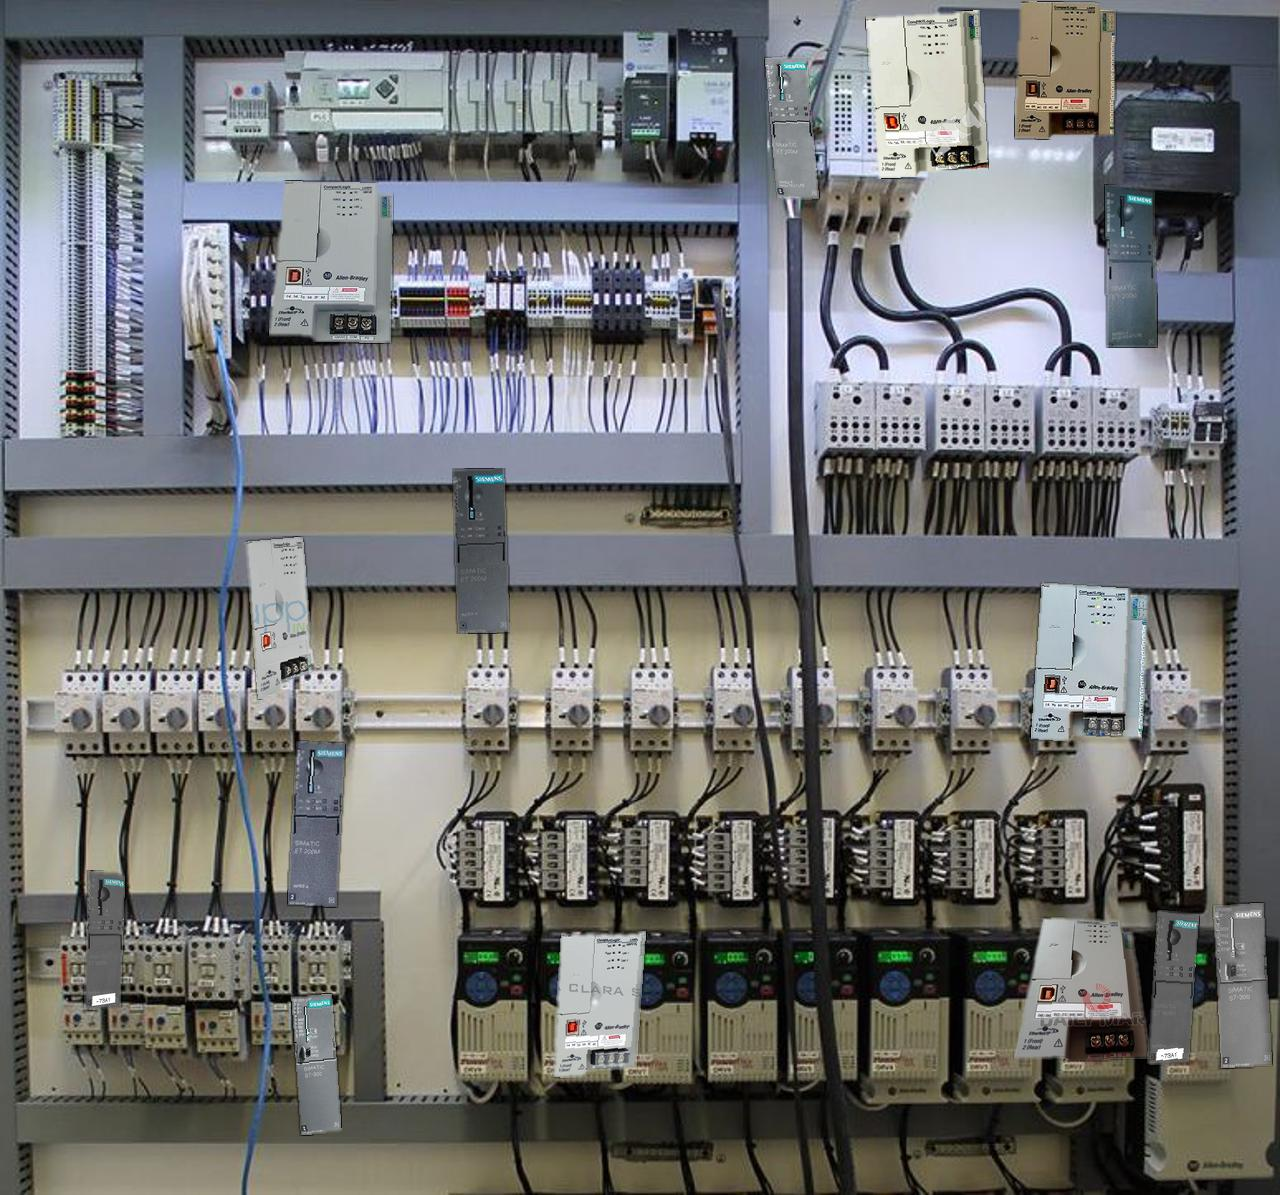AllenBradley: (866, 10, 987, 177), (269, 181, 392, 343), (1014, 918, 1148, 1059), (1031, 584, 1148, 740), (1015, 1, 1114, 138), (554, 931, 644, 1077), (246, 537, 312, 697)
Siemens: (1214, 903, 1271, 1067), (291, 994, 341, 1134)
